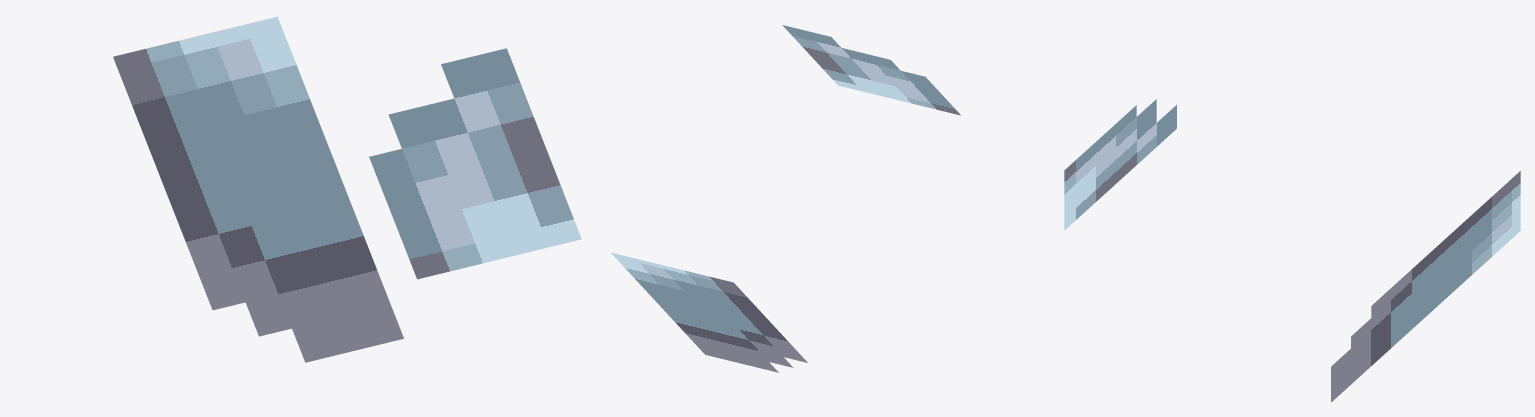
3 views of the same model, side by side, from view 1: azimuth 30°, elevation 25°; view 2: azimuth 150°, elevation 25°; view 3: azimuth 270°, elevation 25° (orthographic). The views are drawn at different scales.
Size of the model in its own units: 0.5 by 0.707 by 1.
1 material, 1 textured.
